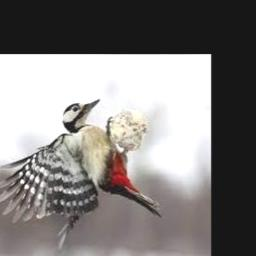Woodpecker: (0, 99, 162, 248)
